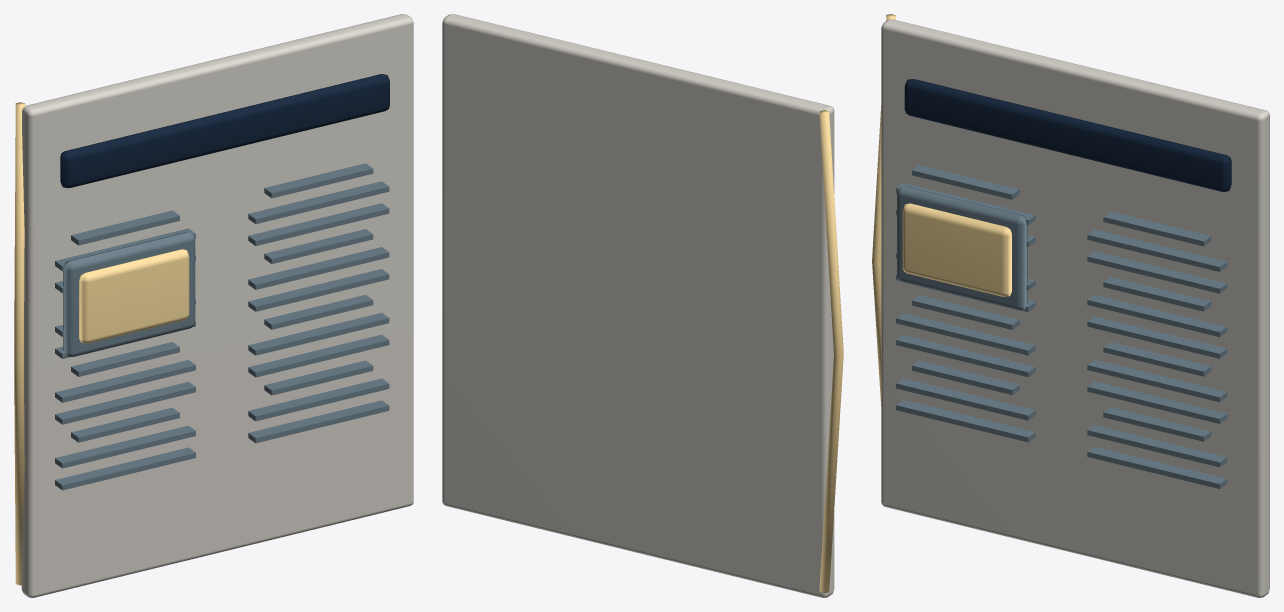
File: 17_Newspaper.glb
The picture shows the model from 3 angles, left to right: view 1: azimuth 30°, elevation 25°; view 2: azimuth 150°, elevation 25°; view 3: azimuth 330°, elevation 25°; orthographic projection.
Visible parts, largest first — view 1: 17_Newspaper_EXPORT; view 2: 17_Newspaper_EXPORT; view 3: 17_Newspaper_EXPORT.
Part boxes in pixels (x1,y1,x2,y2): 17_Newspaper_EXPORT: (14,14,413,597); 17_Newspaper_EXPORT: (442,14,843,597); 17_Newspaper_EXPORT: (872,14,1269,597).
Bounding box in the file's own units: 0.494 × 0.5804 × 0.0632.
